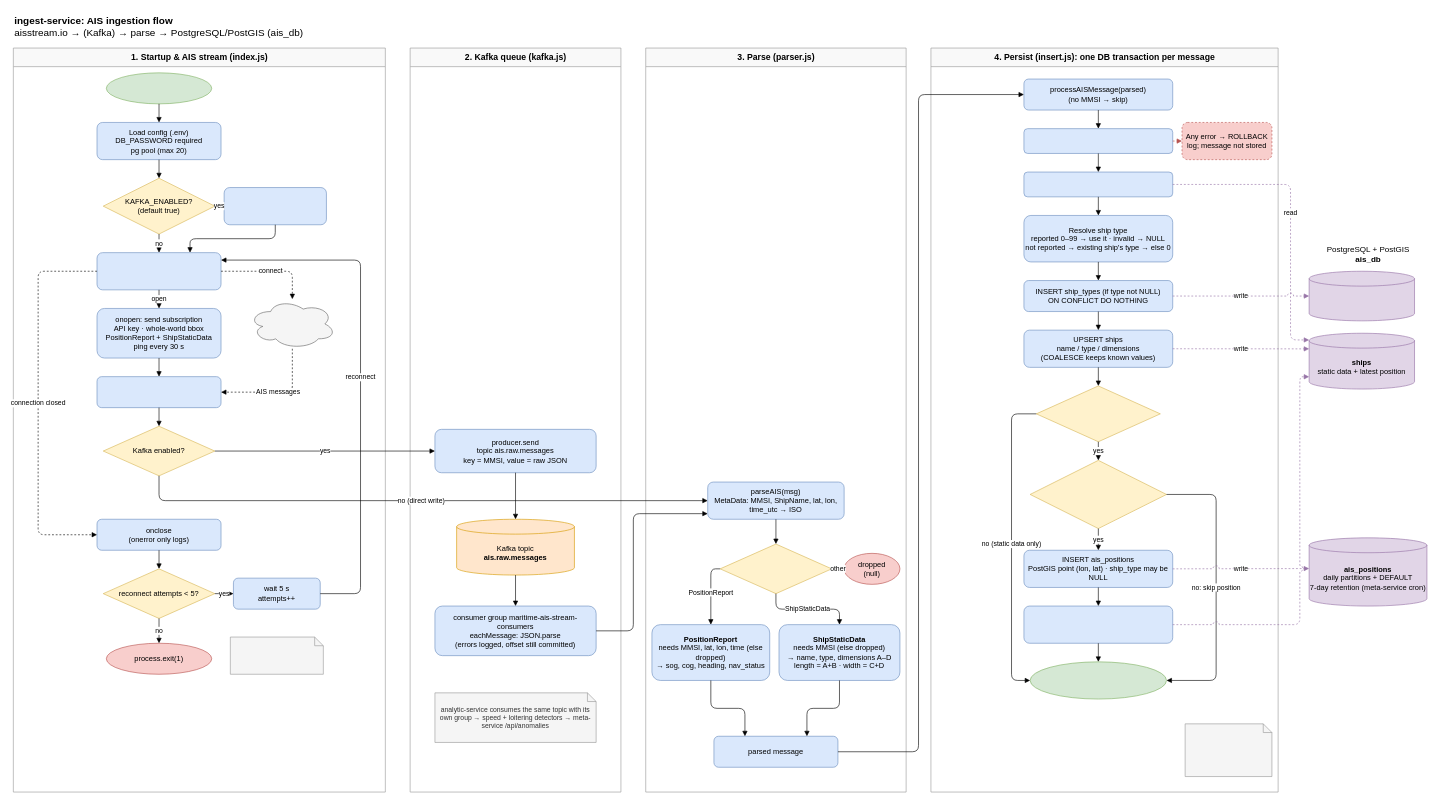
Image size: 1438x803. Some labels were removed from this diagram. Each missing label, with the centre of its shape:
aisstream.io: pixel 292 324
attempts reset to 0 on every successful connect: pixel 276 655
BEGIN (pooled client): pixel 1098 140
COMMIT stats: ship upserts / positions: pixel 1098 680
Connect WebSocket wss://stream.aisstream.io/v0/stream: pixel 158 271
ensureTopic(ais.raw.messages) start Kafka consumer: pixel 275 206
Every 60 s: log "[DB] ✓ Last 60s: N ship upserts, M positions": pixel 1228 750
length & width known? (message or stored ship dimensions): pixel 1098 494
MessageType?: pixel 776 568
onmessage JSON.parse(event.data): pixel 158 392
PositionReport with lat, lon, time?: pixel 1098 413
SELECT existing ship by MMSI: pixel 1098 184
ship_types AIS codes 0–99 (seeded): pixel 1362 296
Start npm run dev / start: pixel 159 88
UPDATE ships latest position (only if newer than last_position_at): pixel 1098 624
